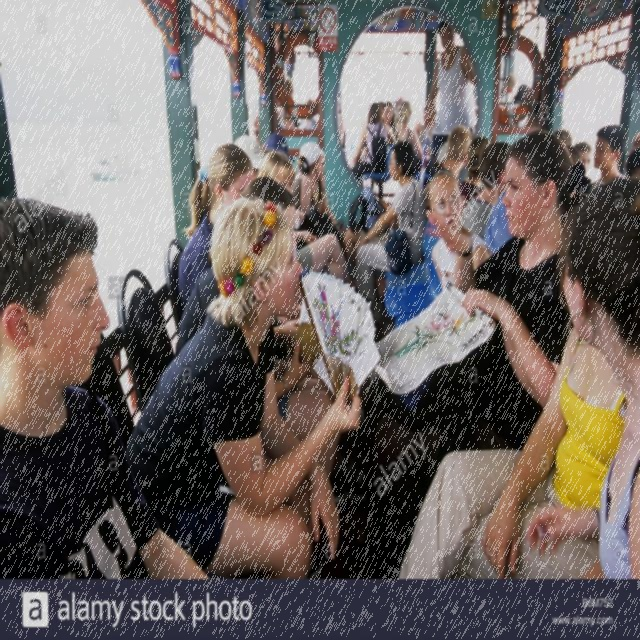pessoa: (347, 128, 596, 580), (122, 193, 364, 578), (174, 176, 346, 574), (392, 324, 632, 584), (524, 175, 640, 580), (435, 121, 639, 190), (176, 141, 256, 309), (353, 137, 428, 311), (422, 168, 495, 292), (426, 18, 479, 162), (231, 125, 299, 209), (288, 208, 352, 290), (460, 141, 512, 241), (350, 101, 398, 190), (356, 101, 398, 174), (496, 64, 537, 134), (307, 154, 343, 233), (292, 140, 326, 217), (592, 122, 630, 186), (394, 100, 424, 165), (276, 84, 320, 128), (413, 104, 438, 162), (333, 94, 345, 152), (380, 91, 388, 116)
